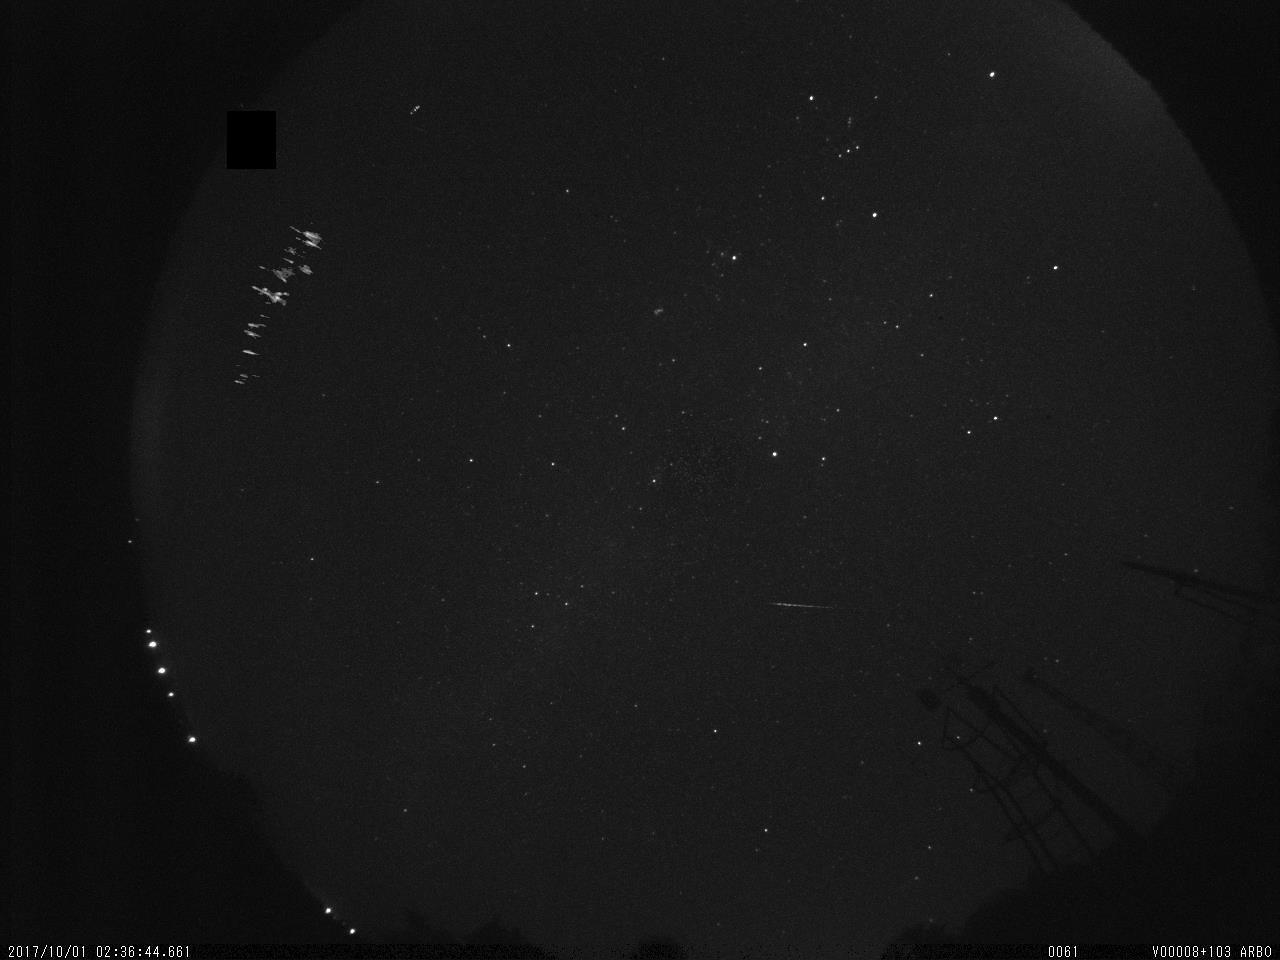TLE: (225, 211, 345, 389)
